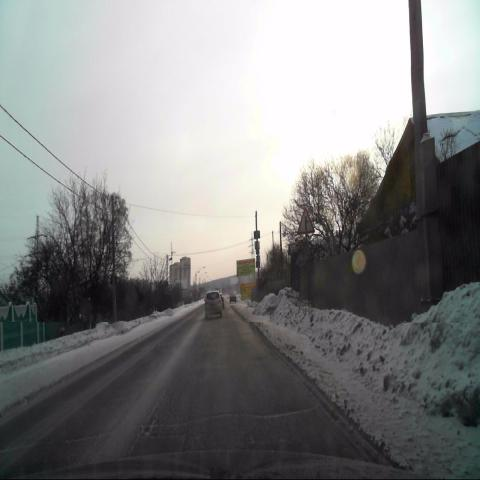2_3_2: (298, 208, 314, 235)
